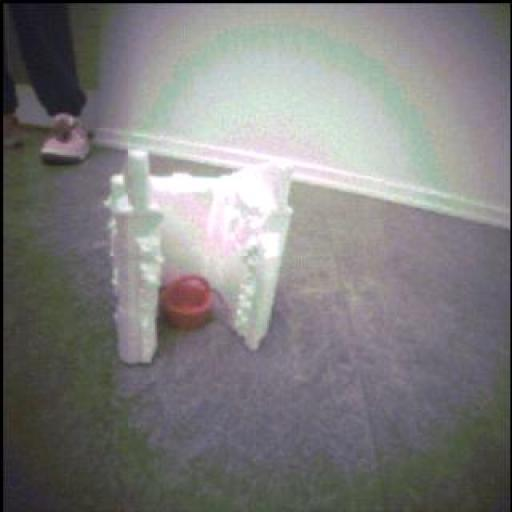Bucket: (162, 272, 215, 330)
